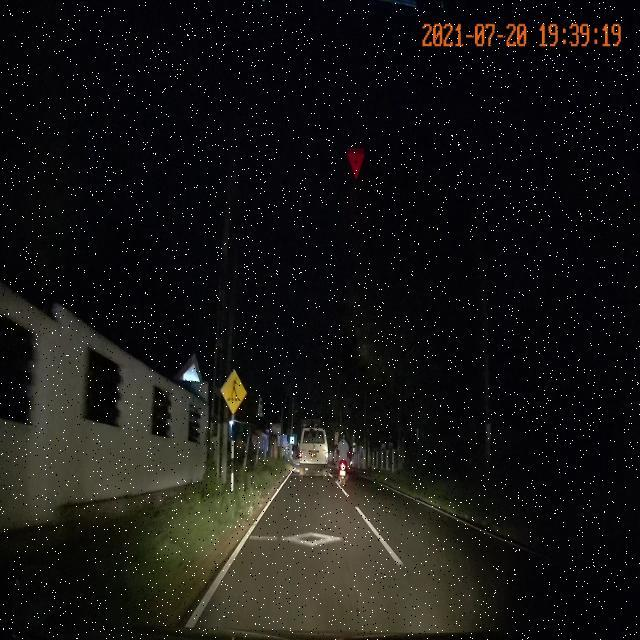diamond: (234, 529, 388, 551)
